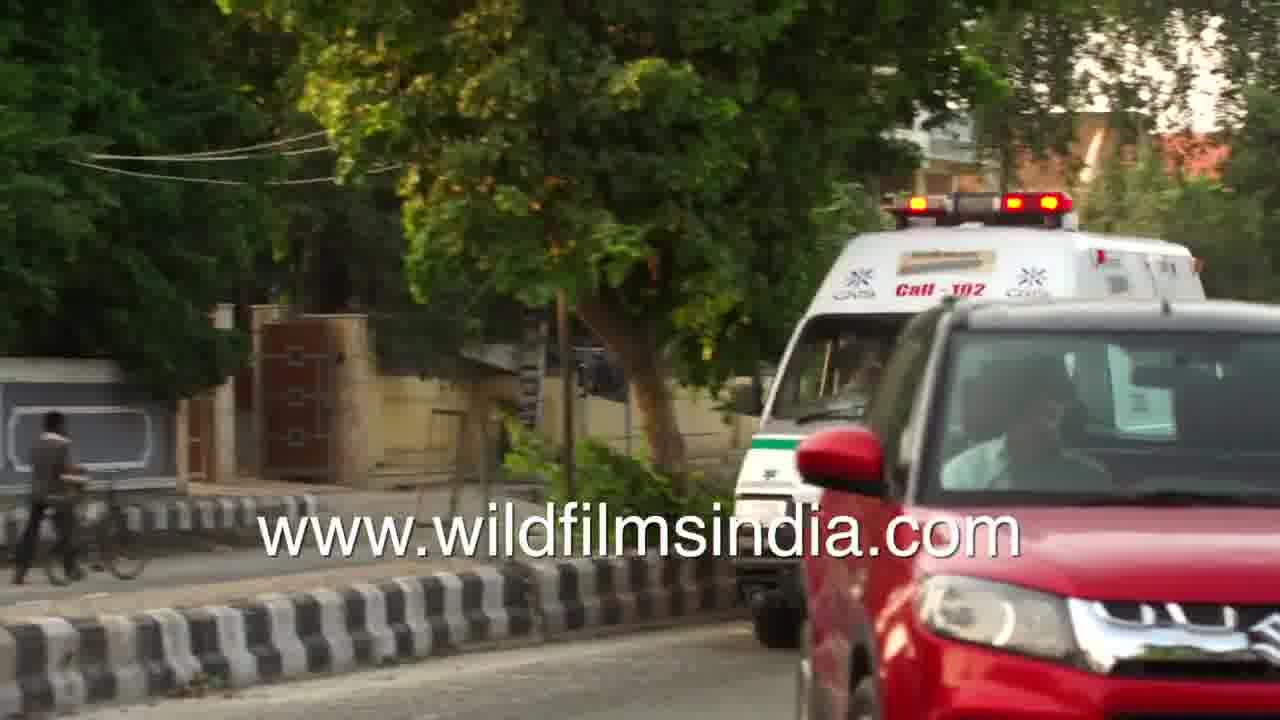AMBULANCE: (670, 150, 1085, 448)
